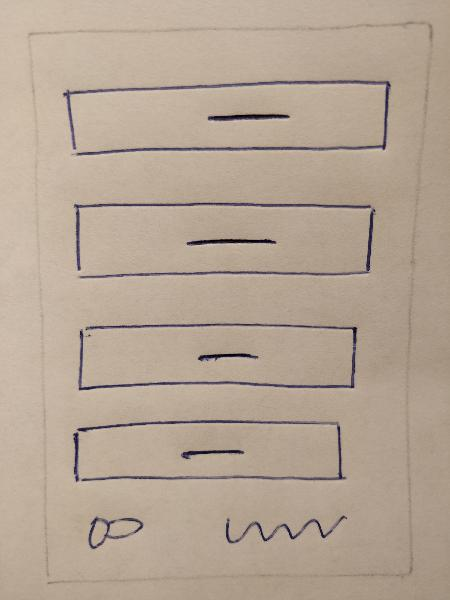button: (56, 73, 394, 165), (65, 195, 383, 281), (71, 312, 370, 394), (65, 413, 350, 493)
switch: (77, 506, 152, 556)
text: (212, 502, 350, 559)
